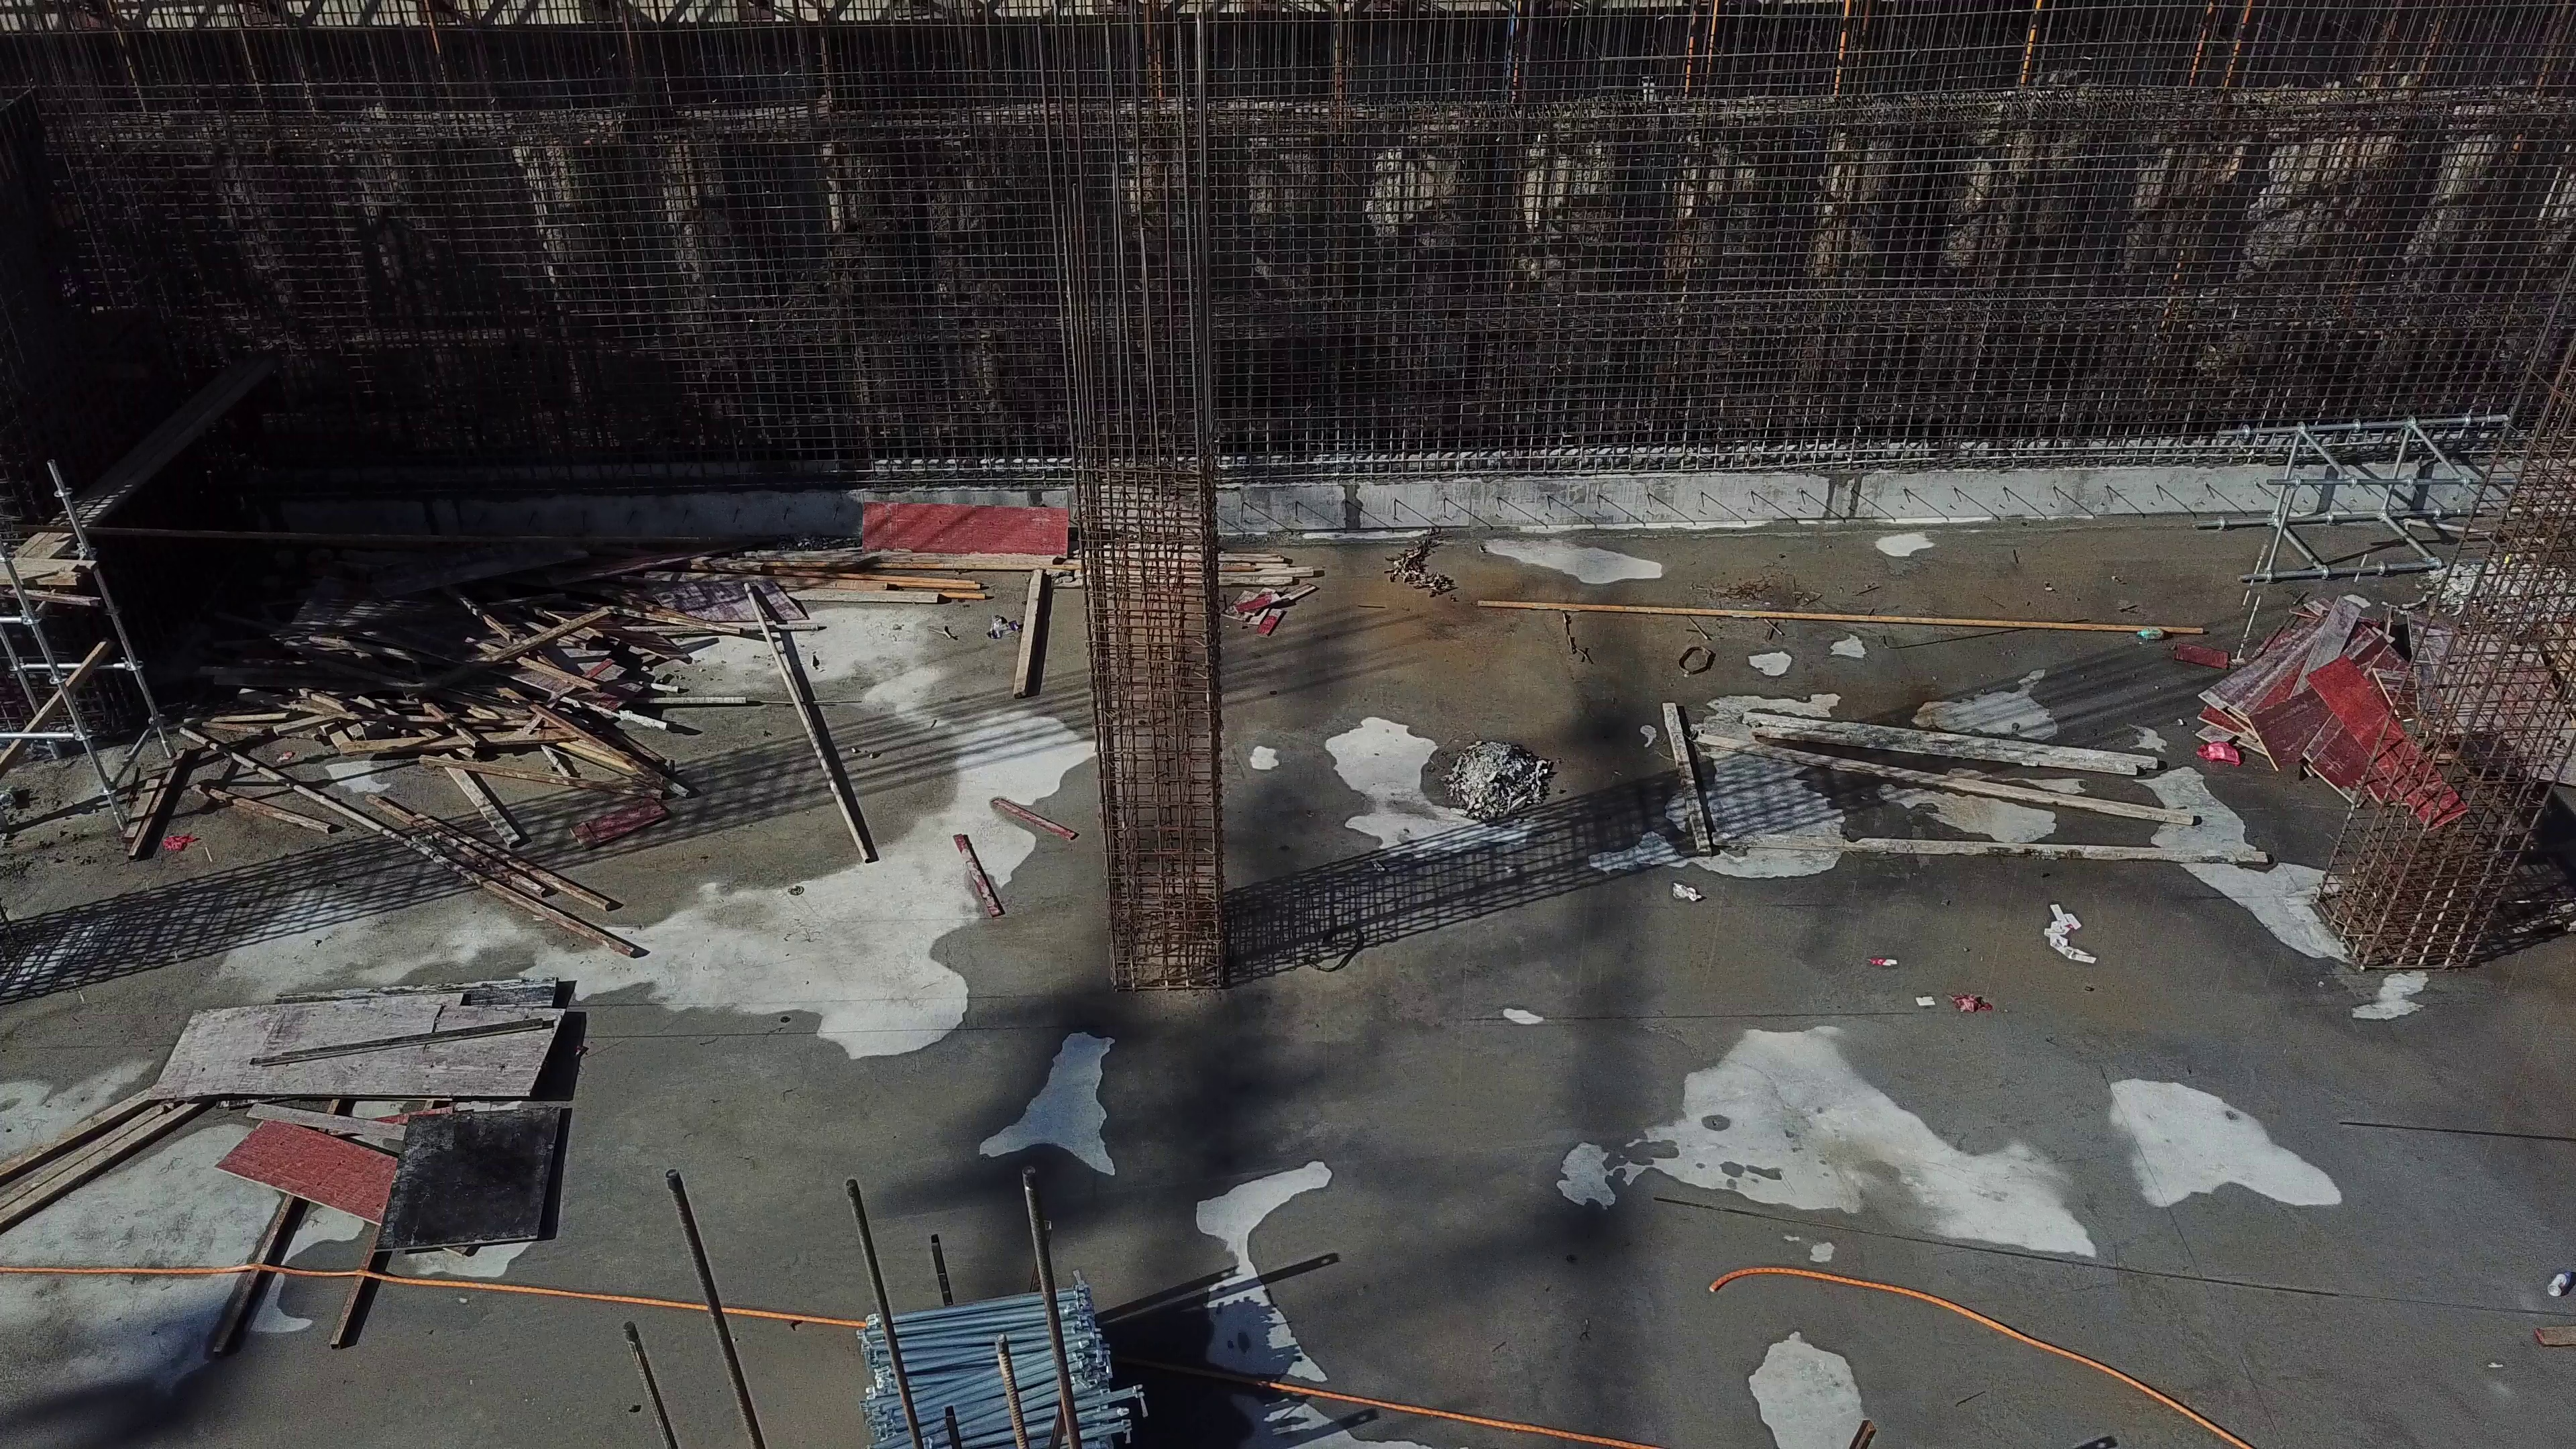board: (2190, 579, 2427, 801)
scaffold: (860, 1283, 1138, 1449)
